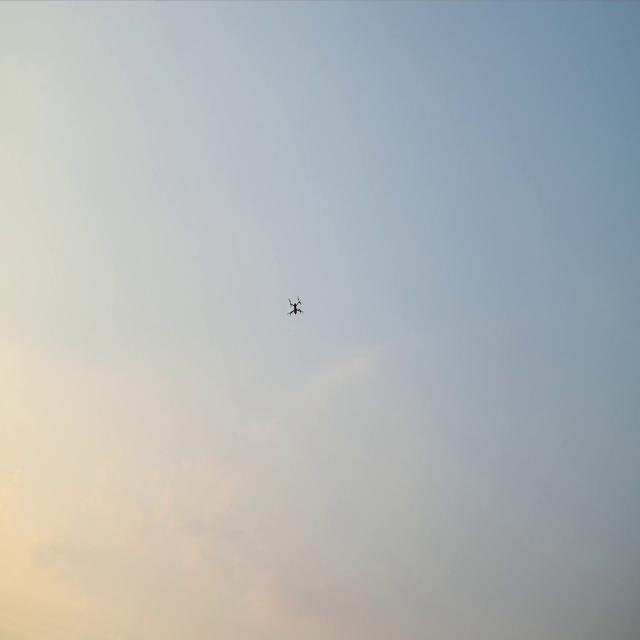UAV: (288, 296, 304, 318)
